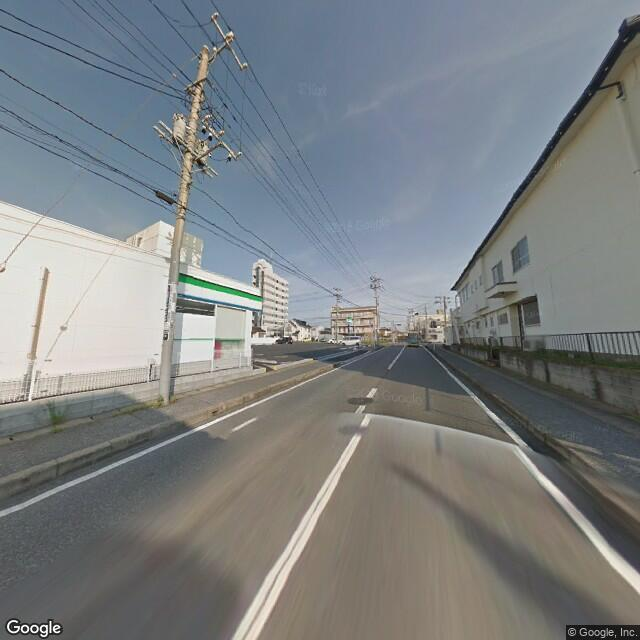family_mart: (176, 273, 262, 313)
